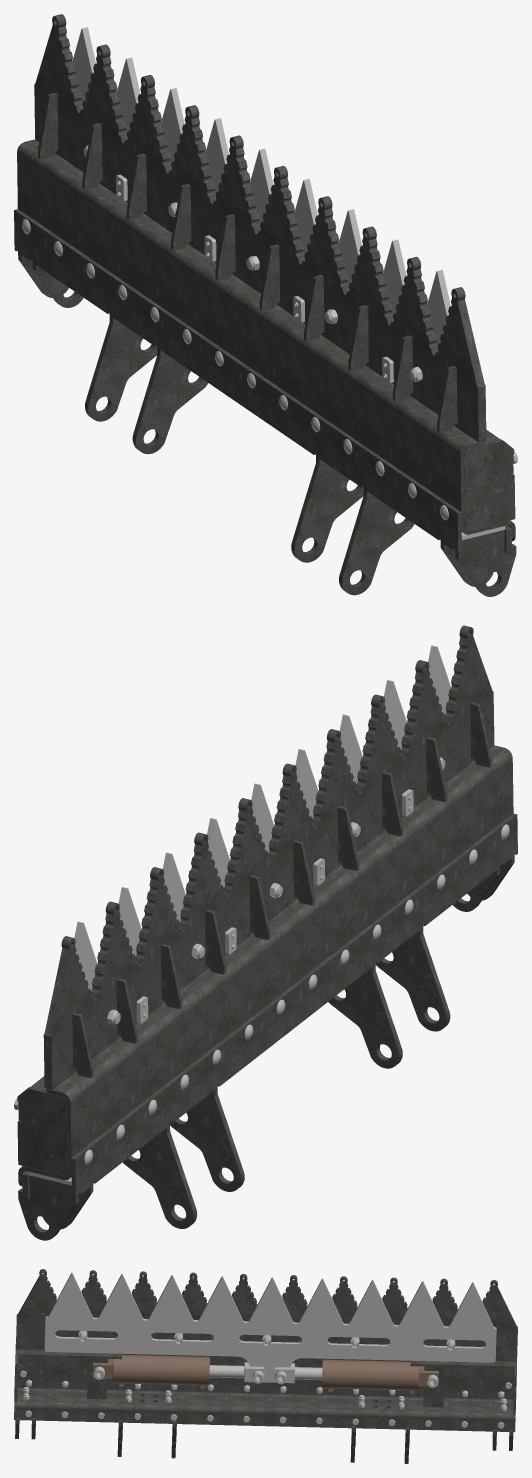
File: kASSE.glb
The picture shows the model from 3 angles, top to bottom: view 1: azimuth 30°, elevation 25°; view 2: azimuth 150°, elevation 25°; view 3: azimuth 270°, elevation 25°; orthographic projection. The views are drawn at different scales.
Parts seen in each view (by area): view 1: Solid1 (×21); view 2: Solid1 (×20); view 3: Solid1 (×12).
Boxes of the visible parts, box(x1,y1,x2,y2) form: Solid1 (×21): box(14, 14, 516, 596); Solid1 (×20): box(17, 625, 517, 1240); Solid1 (×12): box(14, 1269, 517, 1432).
Size of the model in its own units: 0.2326 by 0.8911 by 2.01.
6 materials, 1 textured.
